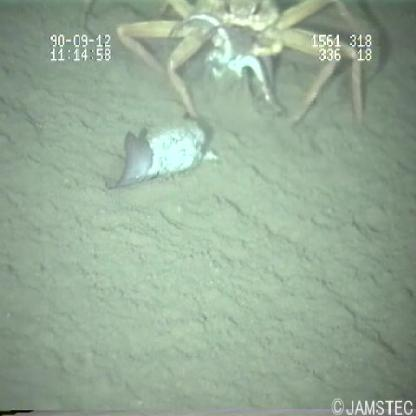Bio: (80, 1, 365, 195)
